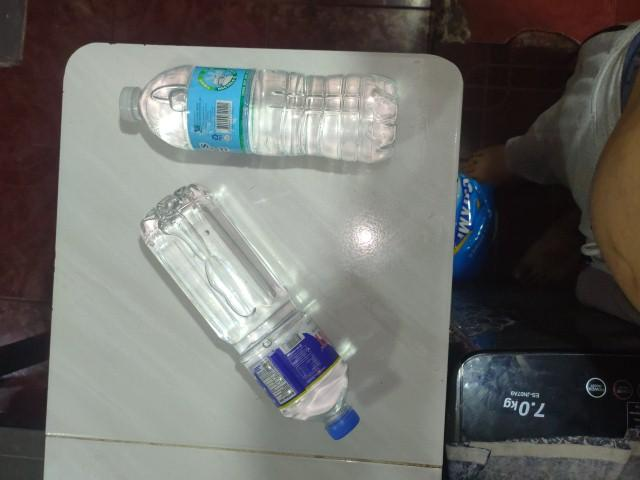Bottled Water: (129, 178, 364, 441), (112, 56, 402, 171)
